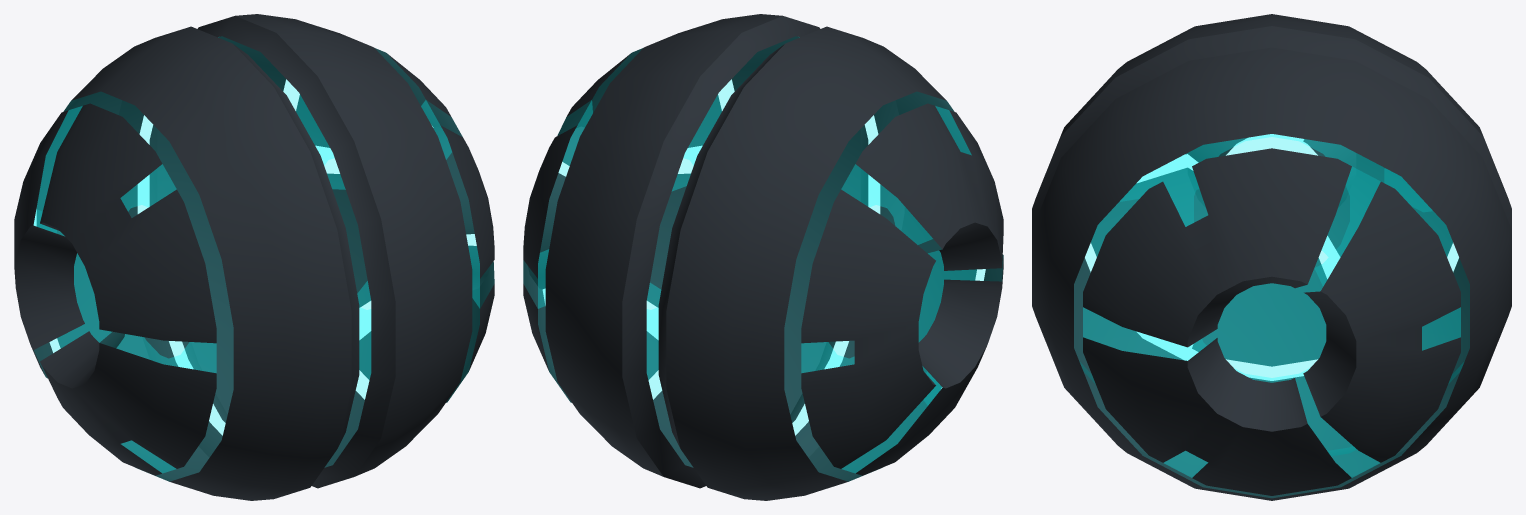
Rendered from CyberSphere_Sphere.FBX.
The picture shows the model from 3 angles, left to right: view 1: azimuth 30°, elevation 25°; view 2: azimuth 150°, elevation 25°; view 3: azimuth 270°, elevation 25°; orthographic projection.
Visible parts, largest first — view 1: Cylinder002; view 2: Cylinder002; view 3: Cylinder002.
Boxes of the visible parts, left/top/right/bottom form: Cylinder002: left=14, top=14, right=494, bottom=500; Cylinder002: left=523, top=14, right=1003, bottom=500; Cylinder002: left=1032, top=14, right=1511, bottom=500.
Bounding box in the file's own units: 7.66 × 8.15 × 8.03.
